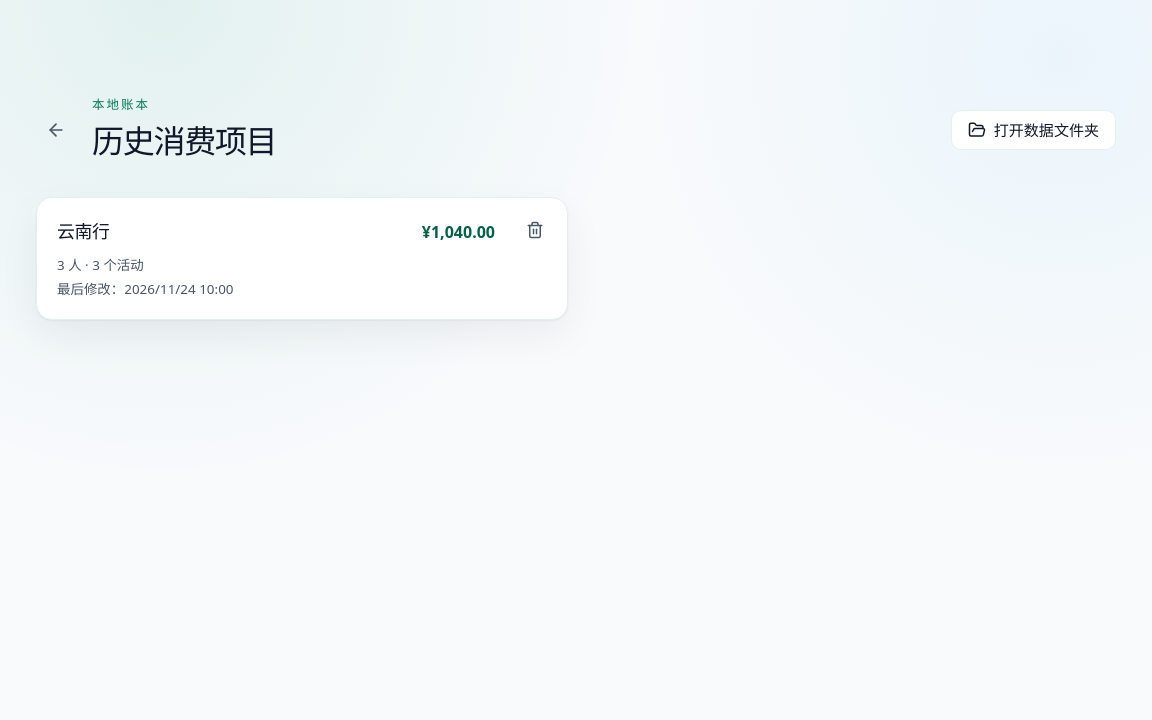
it: HistoryScreen › confirms and deletes a project, then reloads
Check: the heading "云南行" is shown, box [57,218,110,245]
Click the button named "删除项目：云南行". click: (535,230)
box: [515,210,555,250]
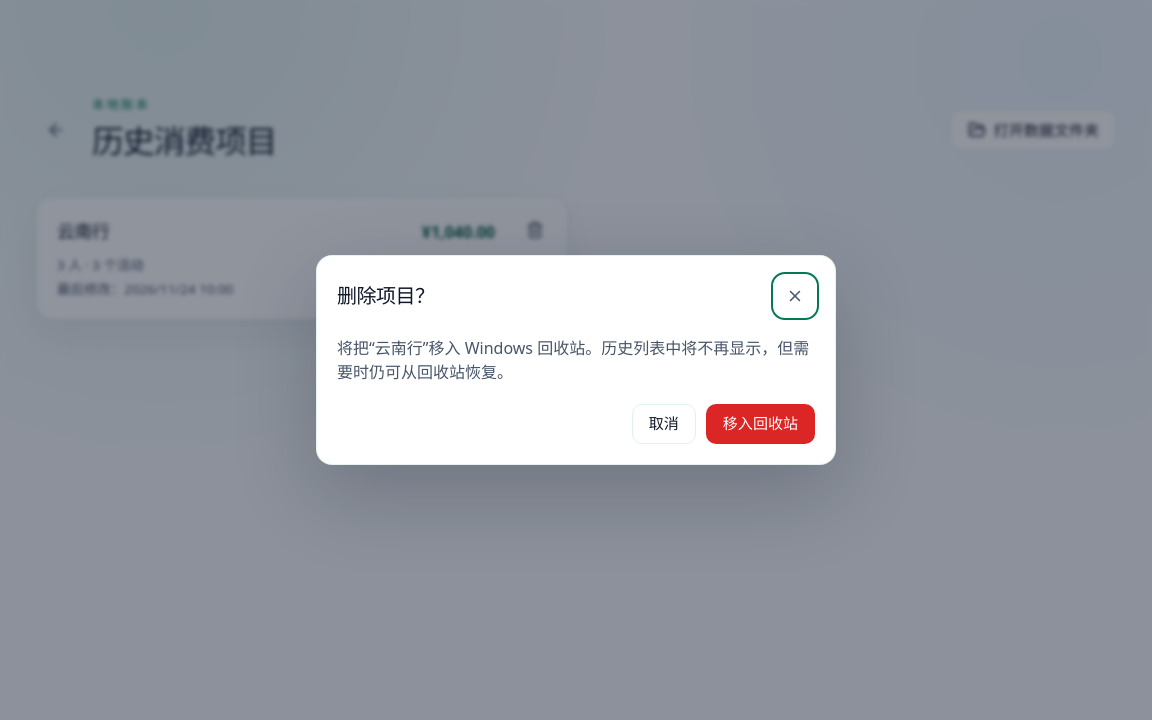
Check: the heading "删除项目？" is shown, box [337,282,434,309]
Click the button "移入回收站". click: (760,424)
box: [706,404,815,444]
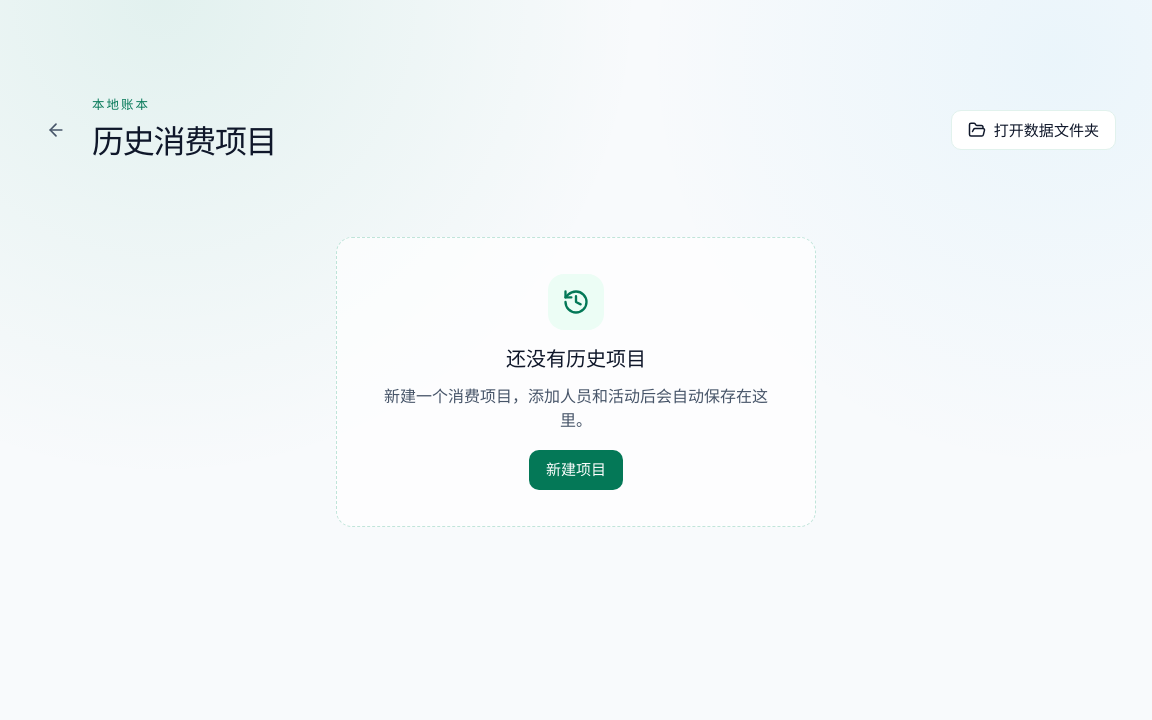
Check: the heading "还没有历史项目" is shown, box [506,344,646,374]
